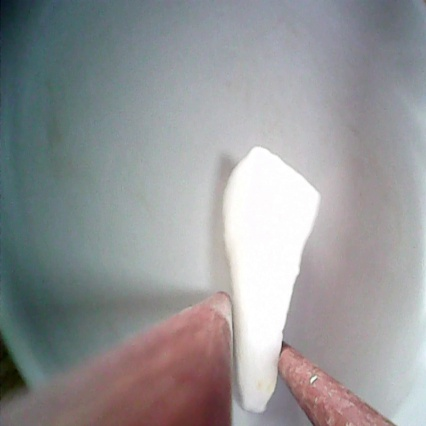white_chinese-yam: (214, 142, 320, 417)
